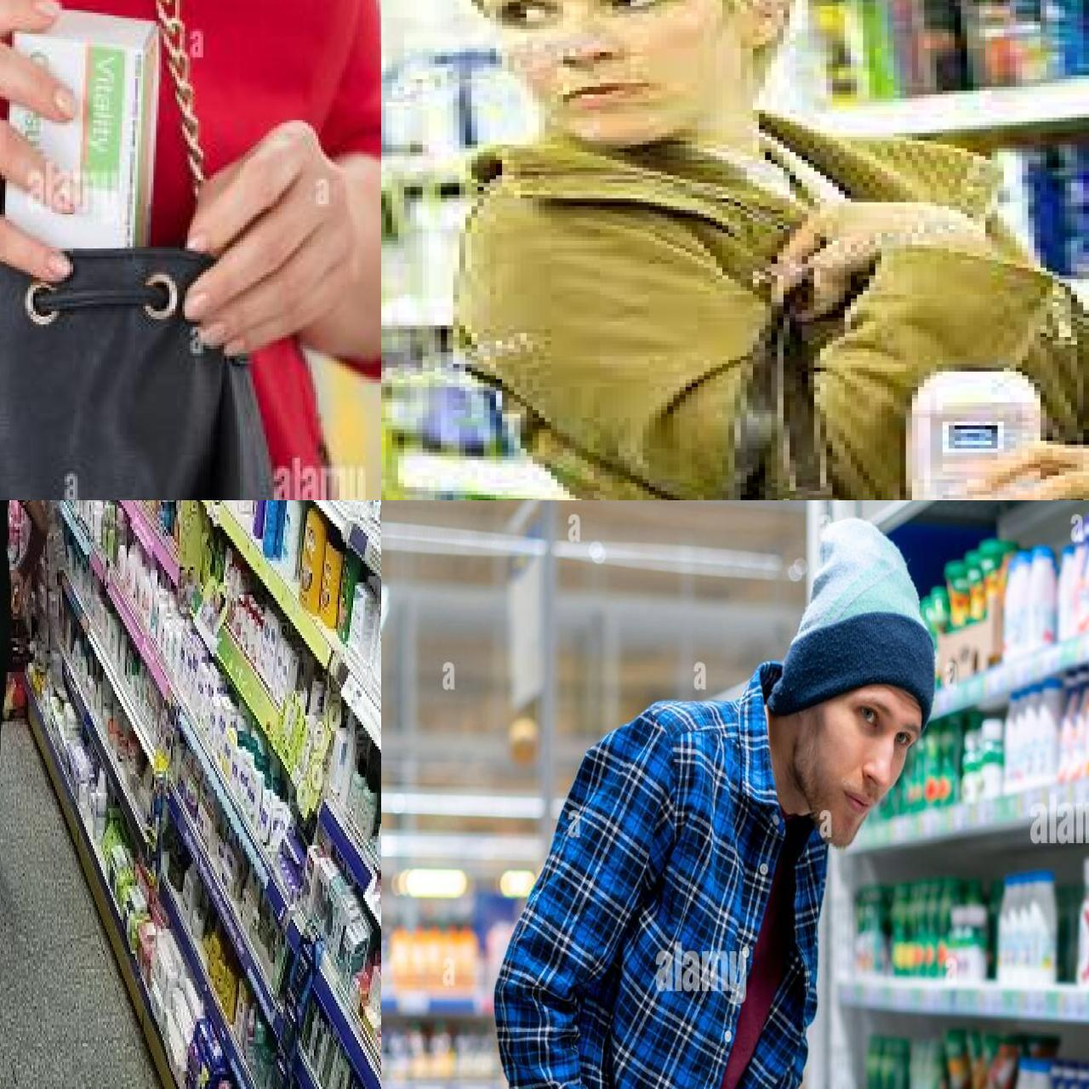shoplifting: (0, 0, 384, 505)
